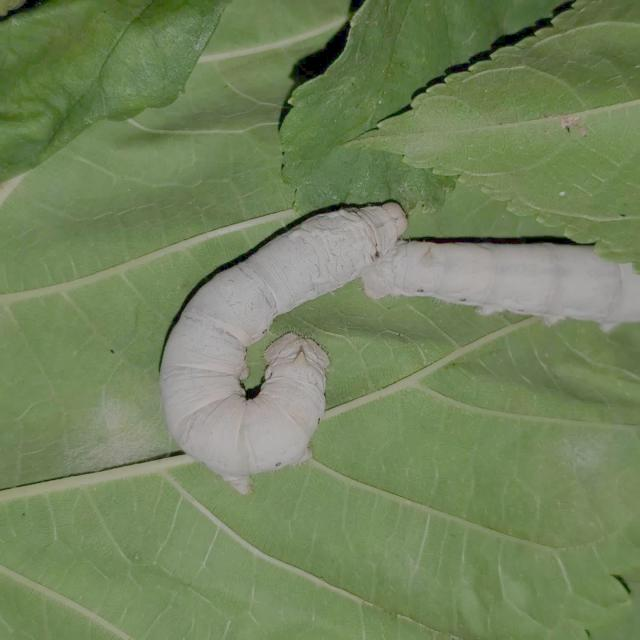Healthy: (136, 142, 640, 546)
